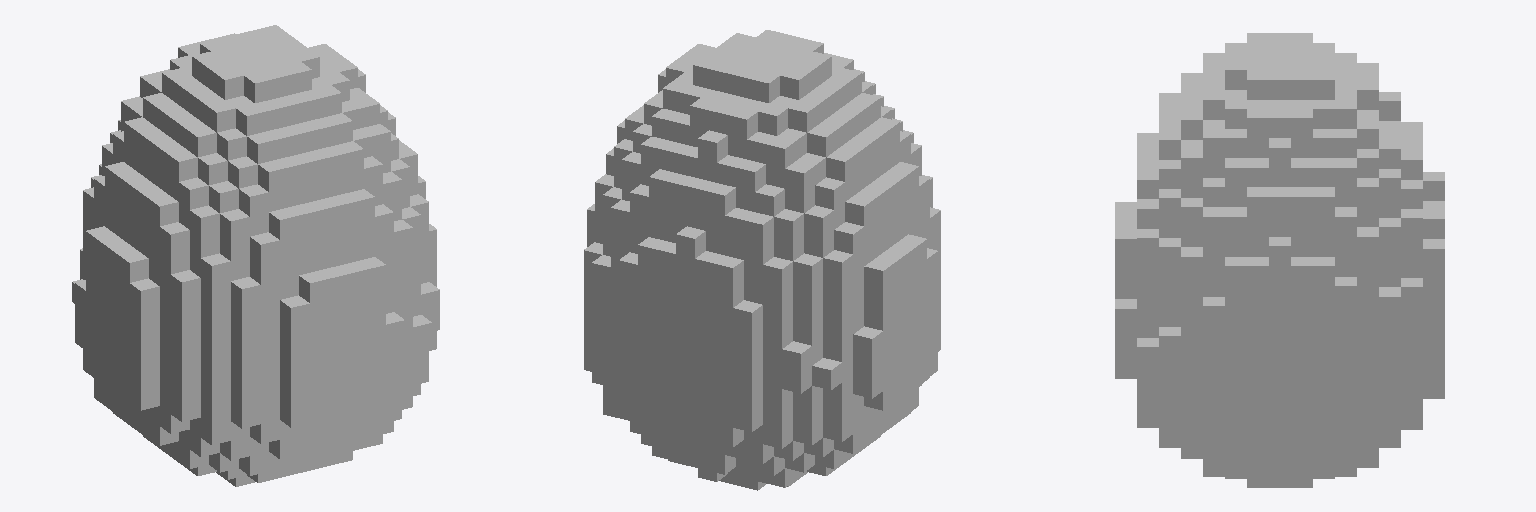
The model's file is egg.obj.
The picture shows the model from 3 angles: view 1: azimuth 30°, elevation 25°; view 2: azimuth 150°, elevation 25°; view 3: azimuth 270°, elevation 25°; orthographic projection.
Visible parts, largest first — view 1: tinker; view 2: tinker; view 3: tinker.
Part boxes in pixels (x1,y1,x2,y2): tinker: (72, 25, 439, 486); tinker: (584, 30, 940, 490); tinker: (1115, 33, 1444, 487).
Size of the model in its own units: 1.5 by 2 by 1.5.